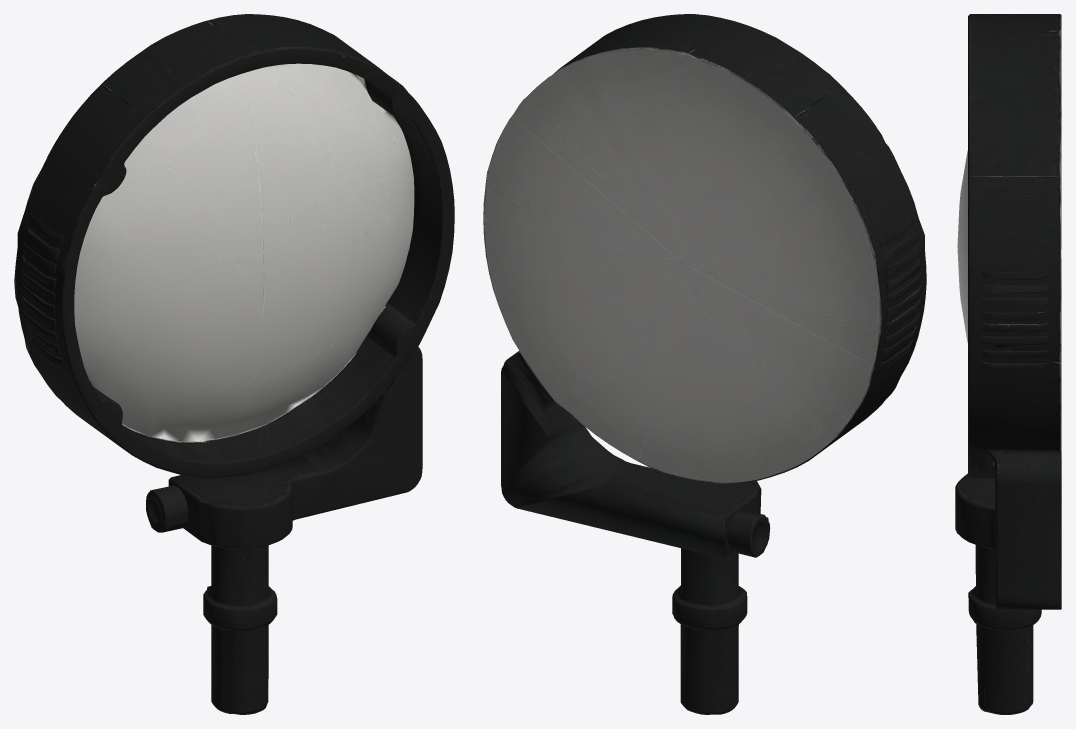
The model's file is lens-holder.glb.
The picture shows the model from 3 angles, left to right: view 1: azimuth 30°, elevation 25°; view 2: azimuth 150°, elevation 25°; view 3: azimuth 270°, elevation 25°; orthographic projection.
Size of the model in its own units: 0.6036 by 0.9517 by 0.1372.
Materials: 1 (1 with a texture image).
